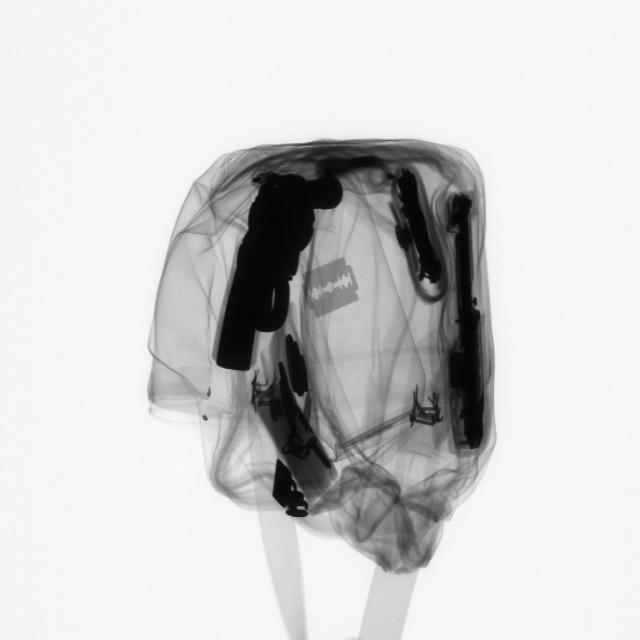BLADE: (299, 254, 366, 327)
GUN: (208, 163, 350, 374)
